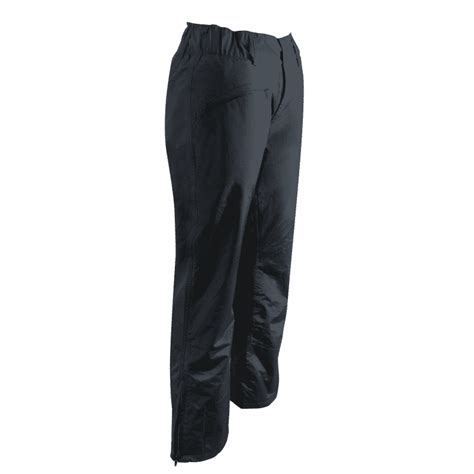nylon: (163, 22, 305, 462)
